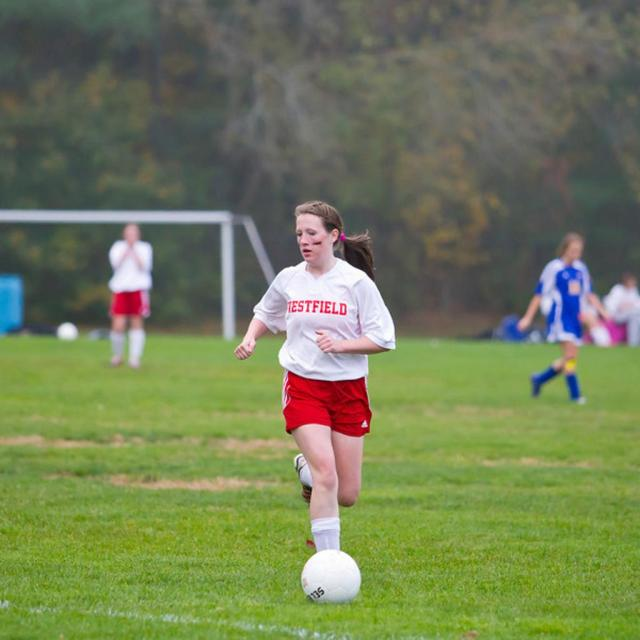Face: (295, 208, 340, 279)
